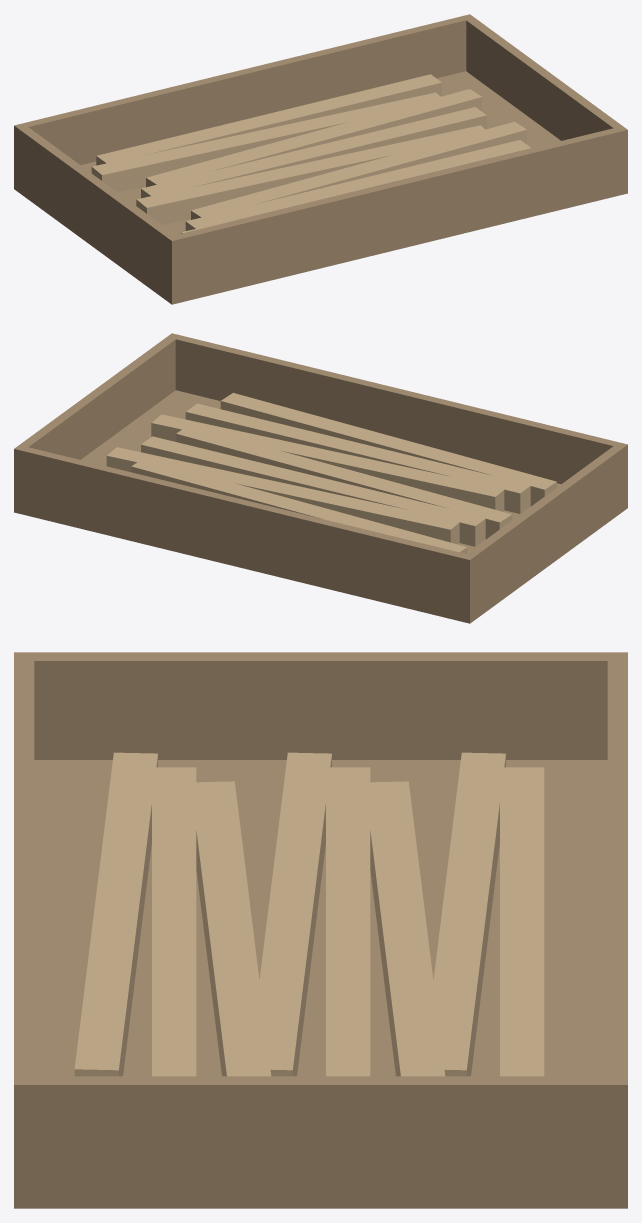
The model's file is prop-peg-blank-tray.fbx.
3 renders of one model, top to bottom at view 1: azimuth 30°, elevation 25°; view 2: azimuth 150°, elevation 25°; view 3: azimuth 270°, elevation 25°, orthographic. The views are drawn at different scales.
Visible parts, largest first — view 1: prop-peg-blank-tray; view 2: prop-peg-blank-tray; view 3: prop-peg-blank-tray.
Boxes of the visible parts, <box> form: prop-peg-blank-tray: <box>14,14,627,304</box>; prop-peg-blank-tray: <box>14,333,627,623</box>; prop-peg-blank-tray: <box>14,652,627,1208</box>.
Bounding box in the file's own units: 30 × 4 × 18.
